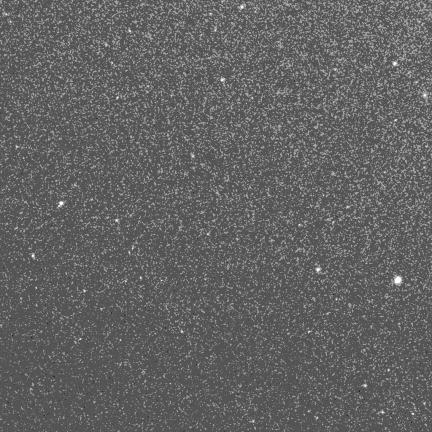blob: (395, 276, 401, 284), (393, 61, 398, 67), (59, 201, 64, 206), (316, 267, 321, 272), (423, 93, 427, 98), (221, 78, 225, 82), (32, 254, 35, 259), (191, 153, 194, 158), (181, 330, 184, 334), (117, 96, 120, 100), (241, 5, 244, 9), (115, 219, 118, 222), (129, 30, 132, 33)
